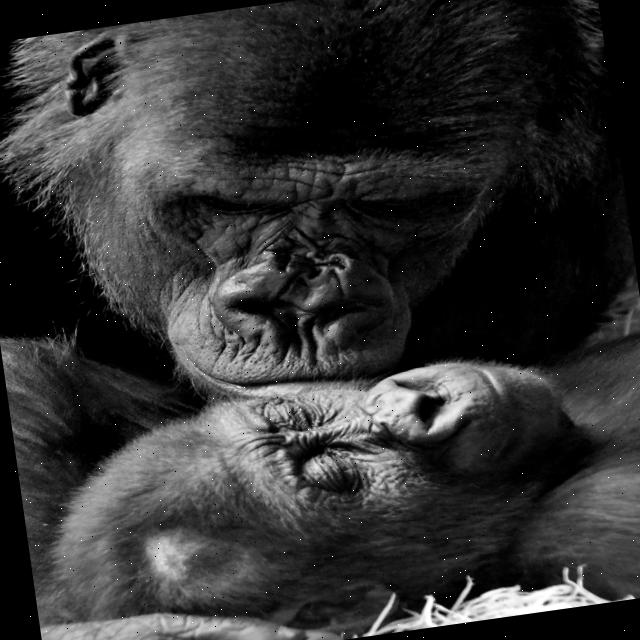Gorilla: (0, 0, 640, 426), (10, 329, 640, 640)
